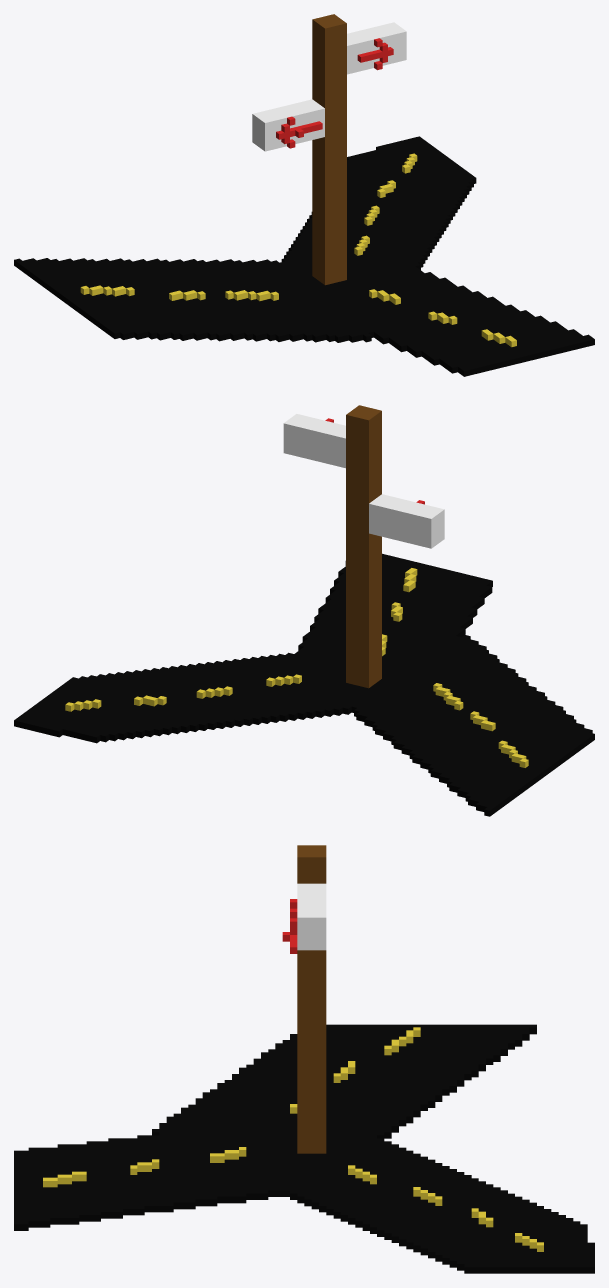
The model's file is calle.obj.
The picture shows the model from 3 angles, top to bottom: view 1: azimuth 30°, elevation 25°; view 2: azimuth 150°, elevation 25°; view 3: azimuth 270°, elevation 25°; orthographic projection. The views are drawn at different scales.
Bounding box in the file's own units: 7.9 × 4.6 × 8.
1 material, 1 textured.
